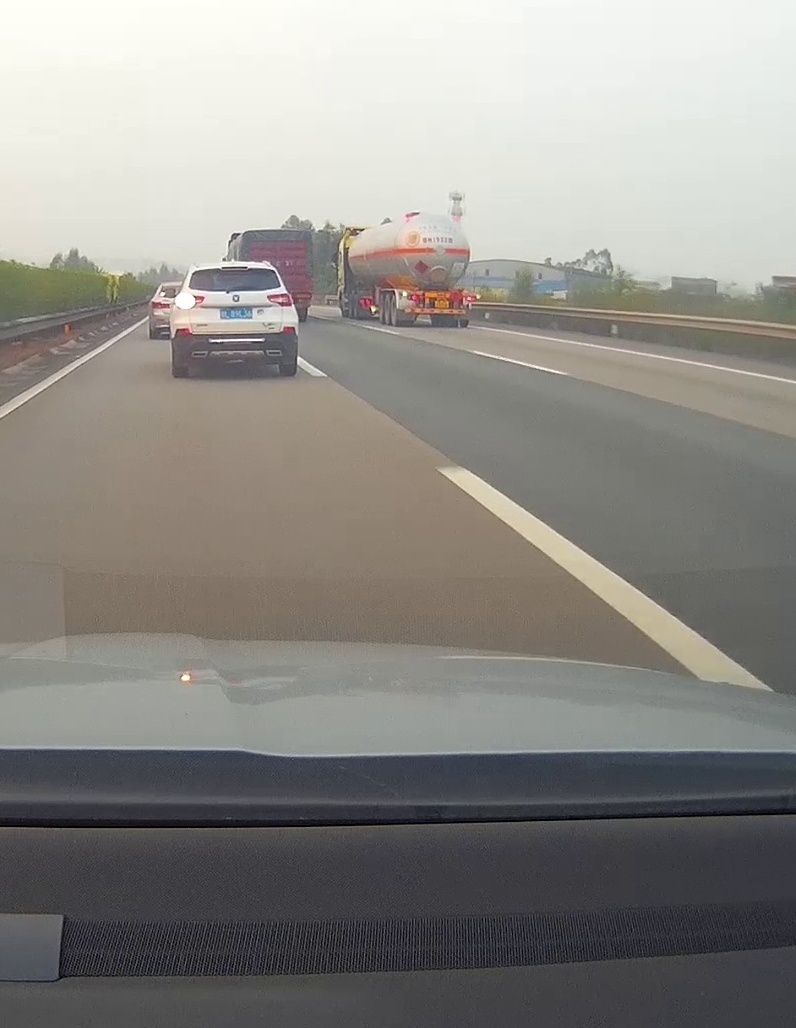L_light: (175, 293, 205, 309), (408, 295, 420, 301)
R_light: (267, 294, 293, 307), (464, 296, 475, 302)
T_light: (221, 266, 248, 270), (436, 291, 446, 295)
day-brake: (395, 289, 481, 328)
day-left: (171, 261, 298, 377)
